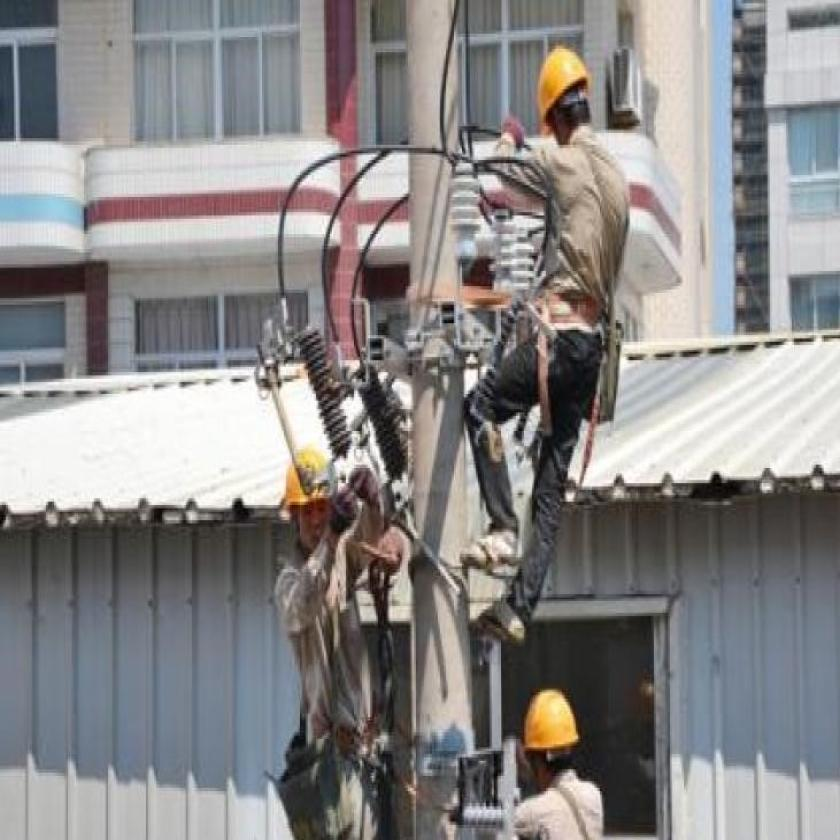Con_casco: (508, 676, 591, 786), (534, 45, 592, 150), (283, 441, 341, 541)
